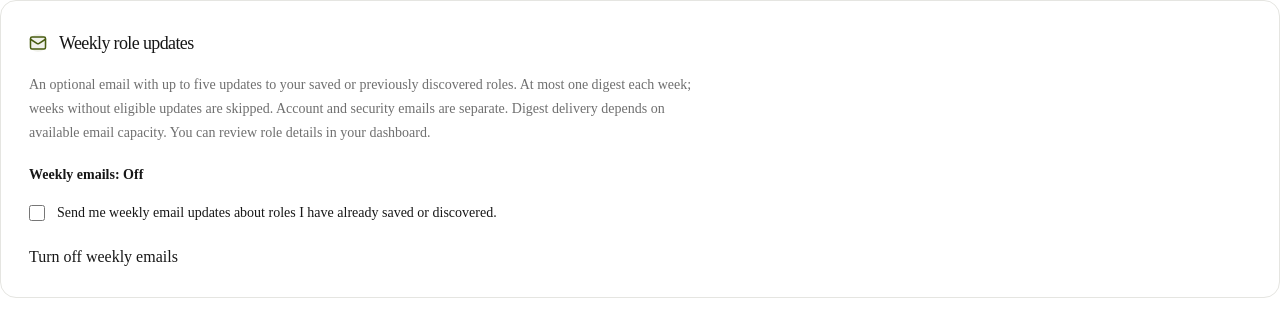
Test: explicit owner-bound digest preference › never repeats an uncertain PUT; manual recovery is a new GET of current state
The width and height of the screenshot is (1280, 315).
Click the checkbox at {"x": 37, "y": 213}, box left=29, top=205, right=45, bottom=221
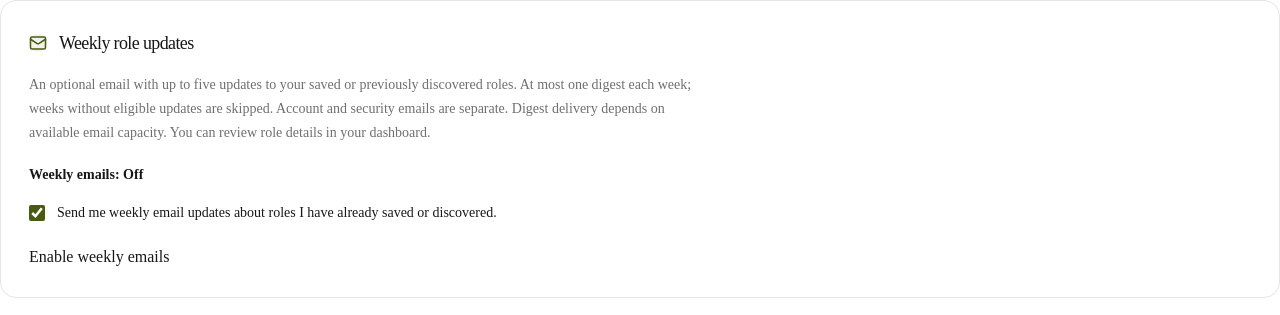
Click the button "Enable weekly emails" at {"x": 99, "y": 257}, box left=29, top=245, right=169, bottom=269
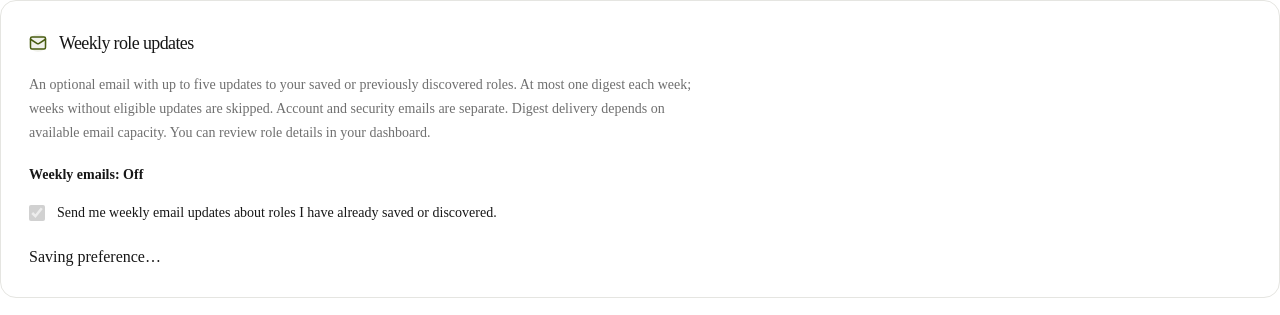
Click the button named "Enable weekly emails" at {"x": 95, "y": 257}, box left=29, top=245, right=161, bottom=269
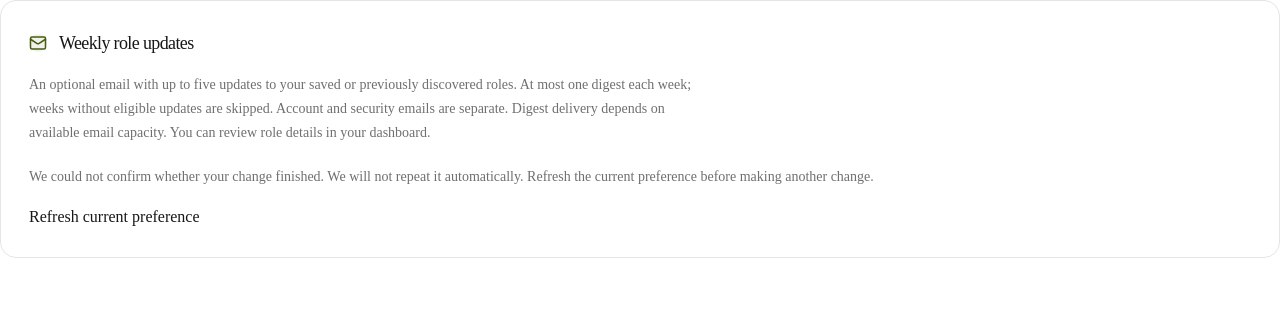
Result: the message shows "will not repeat" at left=29, top=169, right=874, bottom=184
Result: the checkbox is gone
Click the button "Refresh current preference" at {"x": 114, "y": 217}, box left=29, top=205, right=200, bottom=229
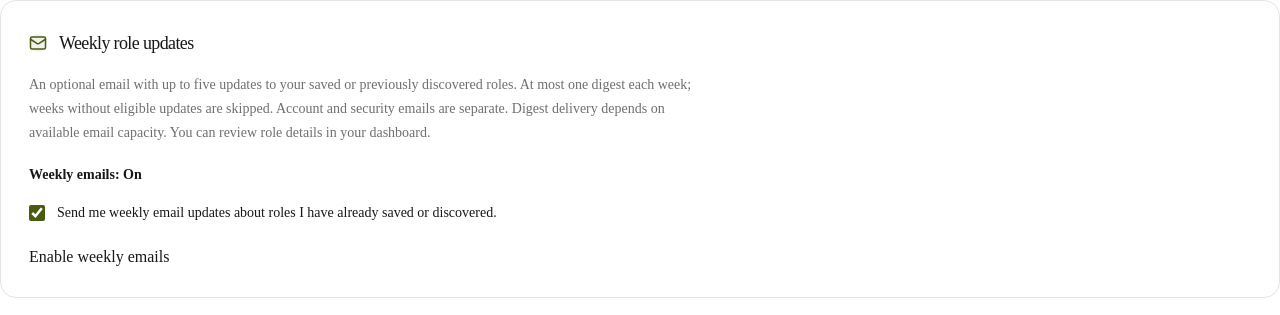
Result: the checkbox is checked at left=29, top=205, right=45, bottom=221
